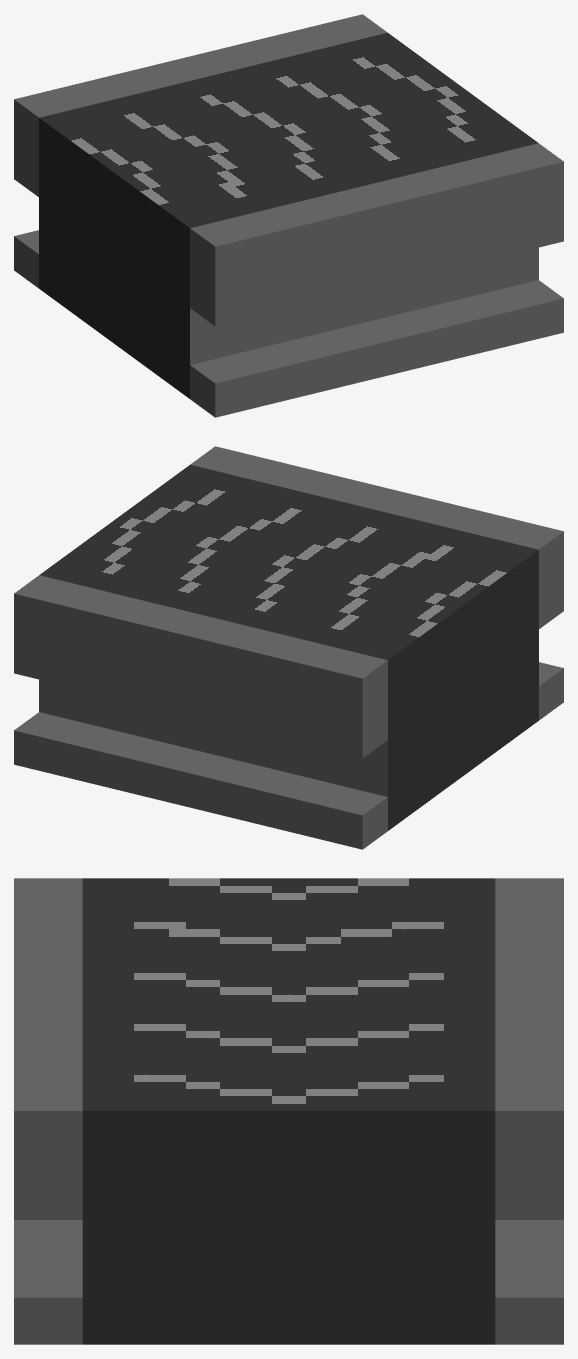
File: conveyer_flat.gltf
The picture shows the model from 3 angles, top to bottom: view 1: azimuth 30°, elevation 25°; view 2: azimuth 150°, elevation 25°; view 3: azimuth 270°, elevation 25°; orthographic projection. The views are drawn at different scales.
Visible parts, largest first — view 1: cube (×5); view 2: cube (×5); view 3: cube (×5).
Part boxes in pixels (left/top/right/bottom): cube (×5): left=14, top=14, right=563, bottom=417; cube (×5): left=14, top=446, right=563, bottom=849; cube (×5): left=14, top=878, right=563, bottom=1344.
Bounding box in the file's own units: 1 × 0.4688 × 1.
2 materials, 2 textured.
